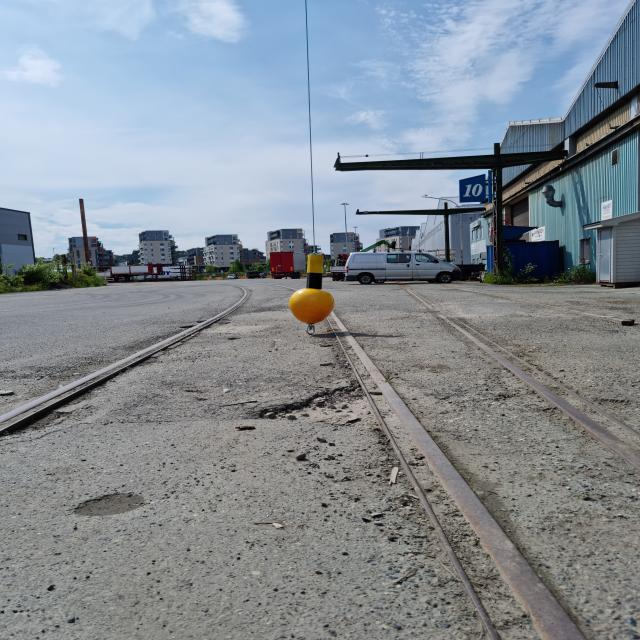west: (287, 251, 337, 324)
